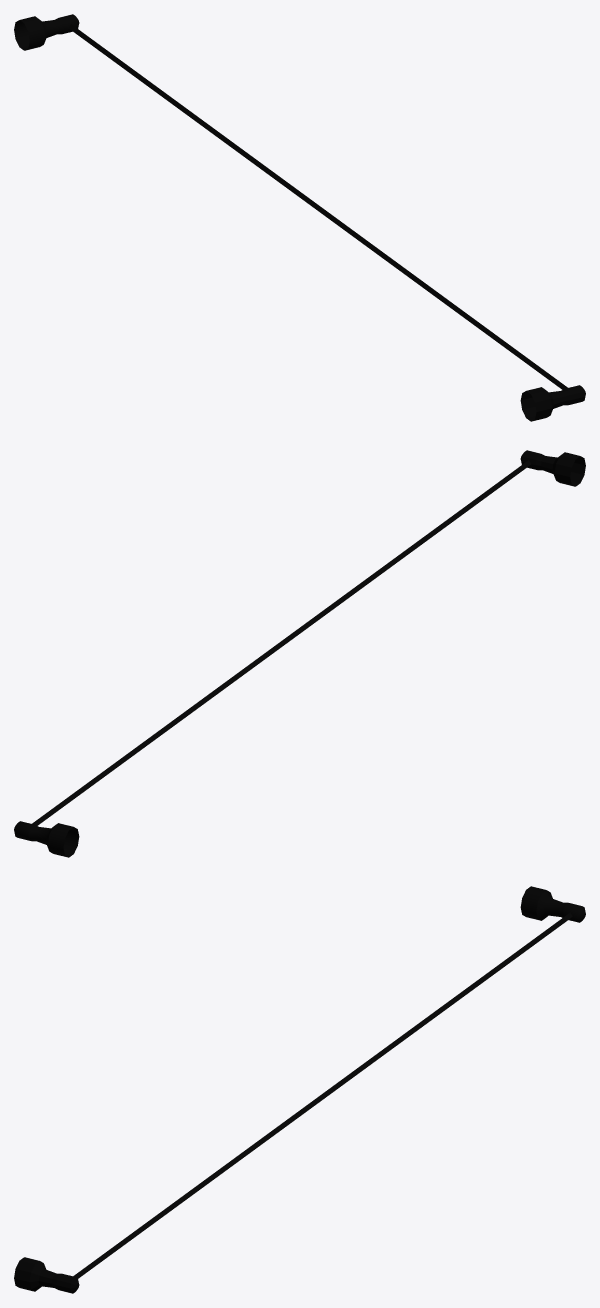
The model's file is RoomCurtainRod_Big.FBX.
The picture shows the model from 3 angles, top to bottom: view 1: azimuth 30°, elevation 25°; view 2: azimuth 150°, elevation 25°; view 3: azimuth 330°, elevation 25°; orthographic projection.
Visible parts, largest first — view 1: Curtain_Rod; view 2: Curtain_Rod; view 3: Curtain_Rod.
Boxes of the visible parts, x1,y1,x2,y2 form: Curtain_Rod: (14, 14, 585, 421); Curtain_Rod: (14, 450, 585, 857); Curtain_Rod: (14, 886, 585, 1293).
Size of the model in its own units: 0.1641 by 0.0768 by 2.66.
